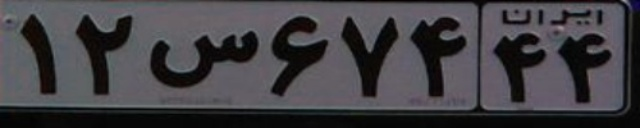1: (14, 12, 60, 94)
2: (74, 13, 131, 94)
4: (406, 15, 469, 97), (557, 31, 613, 103), (492, 32, 546, 103)
6: (270, 14, 331, 96)
7: (341, 14, 399, 98)
sin: (146, 29, 259, 88)
